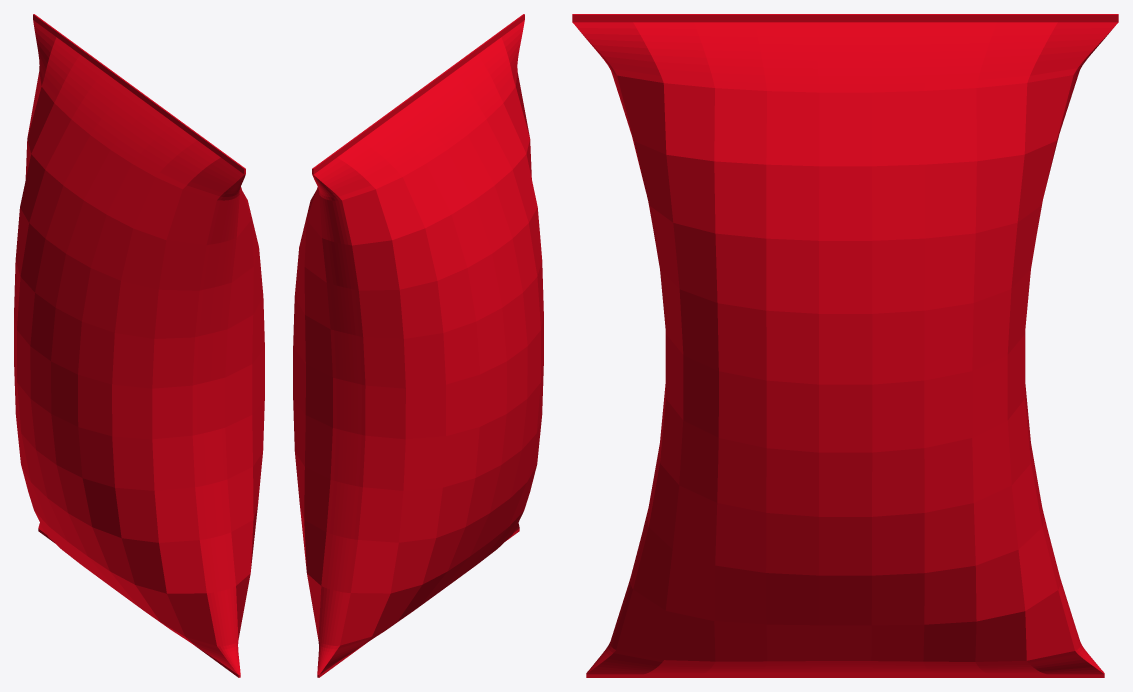
Rendered from crisps.glb.
3 renders of one model, left to right at view 1: azimuth 30°, elevation 25°; view 2: azimuth 150°, elevation 25°; view 3: azimuth 270°, elevation 25°, orthographic. The views are drawn at different scales.
Parts seen in each view (by area): view 1: Cube; view 2: Cube; view 3: Cube.
Part boxes in pixels (box(x1,y1,x2,y2)): Cube: box(14, 14, 264, 677); Cube: box(293, 14, 543, 677); Cube: box(572, 14, 1118, 677).
Bounding box in the file's own units: 18.42 × 45.66 × 34.11.
